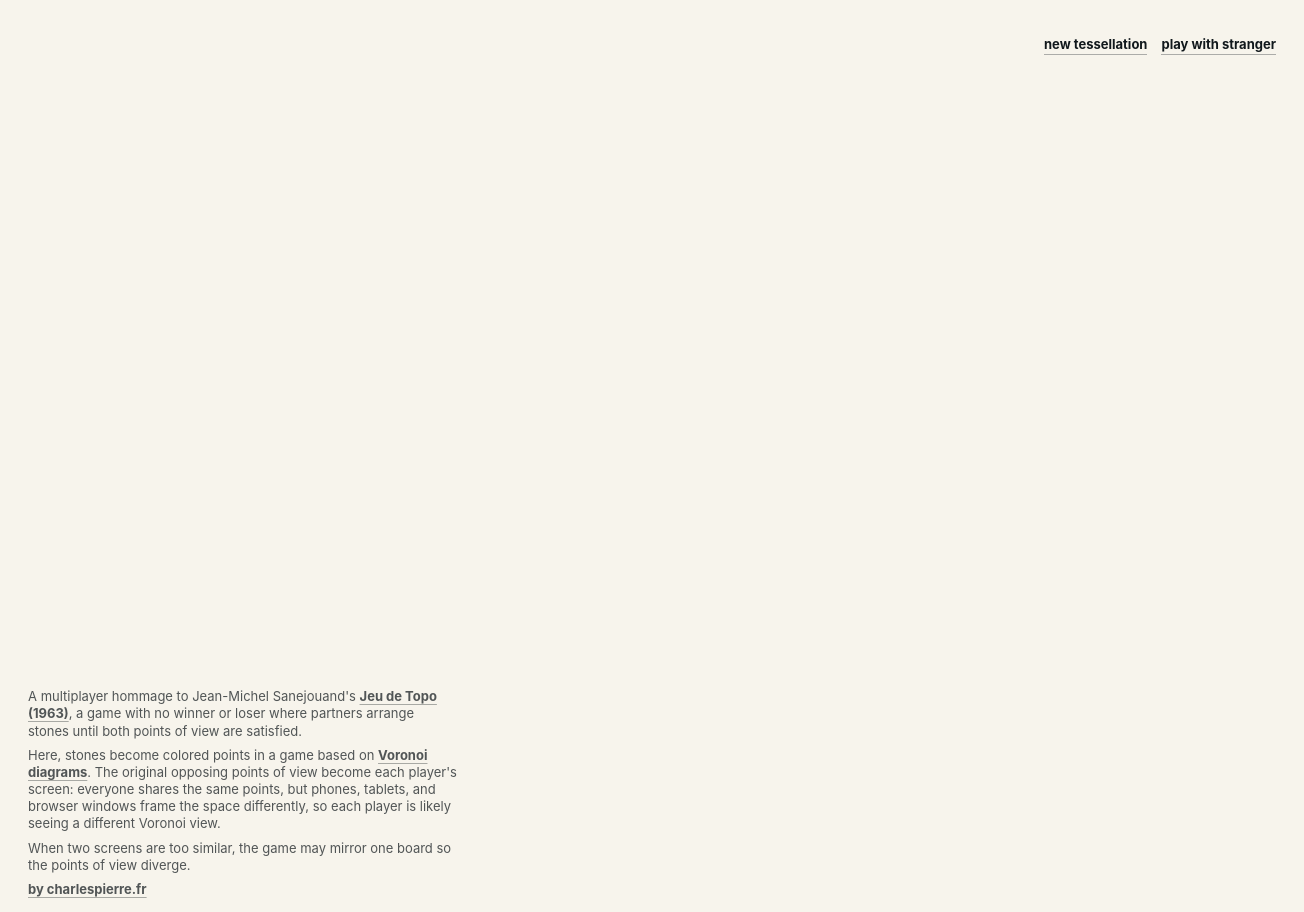
Test: App stranger matchmaking › cancels a waiting stranger match
Click the button "play with stranger" at (1219, 44), box [1162,34,1276,55]
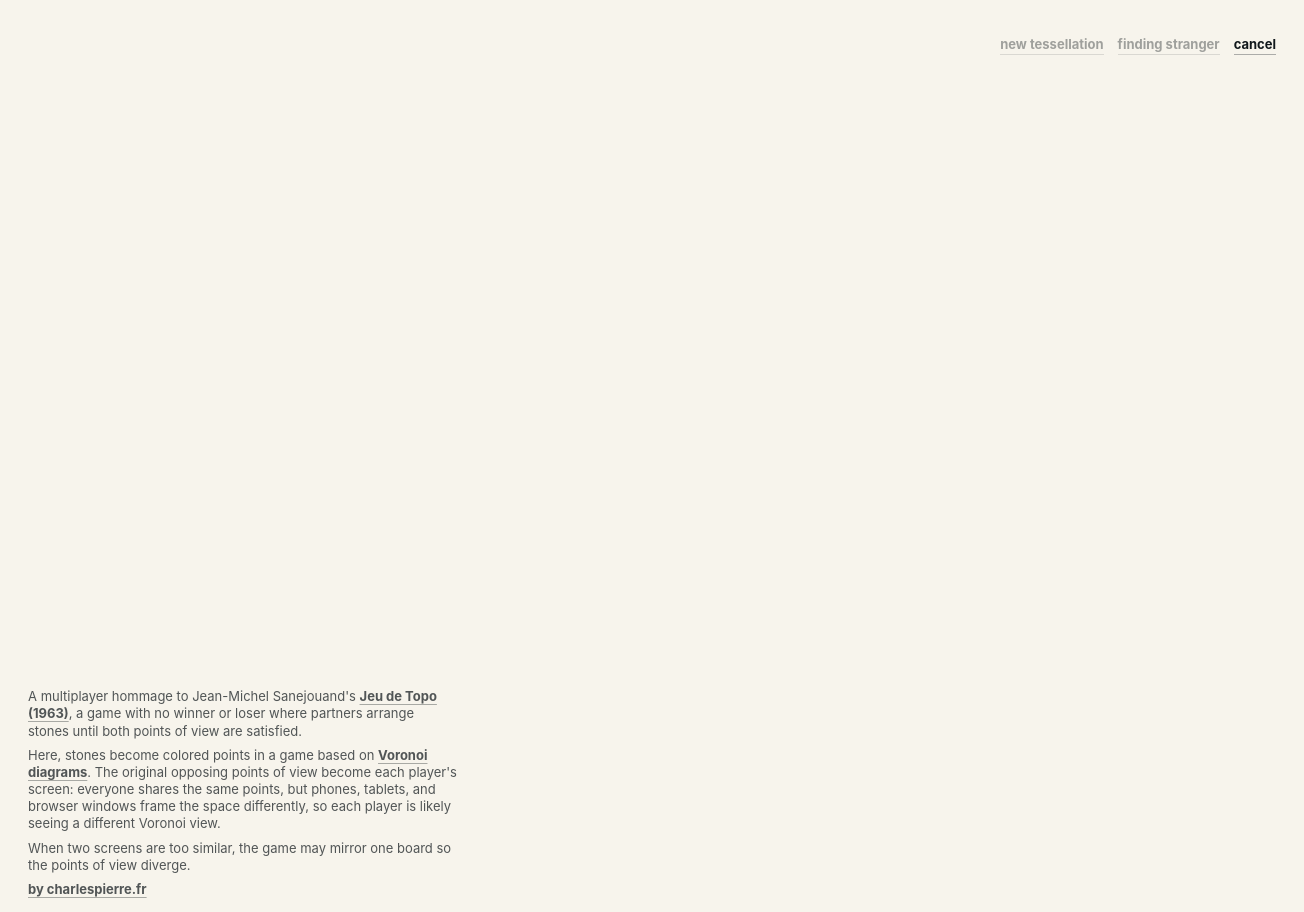
Click the button "cancel" at (1255, 44), box [1234,34,1276,55]
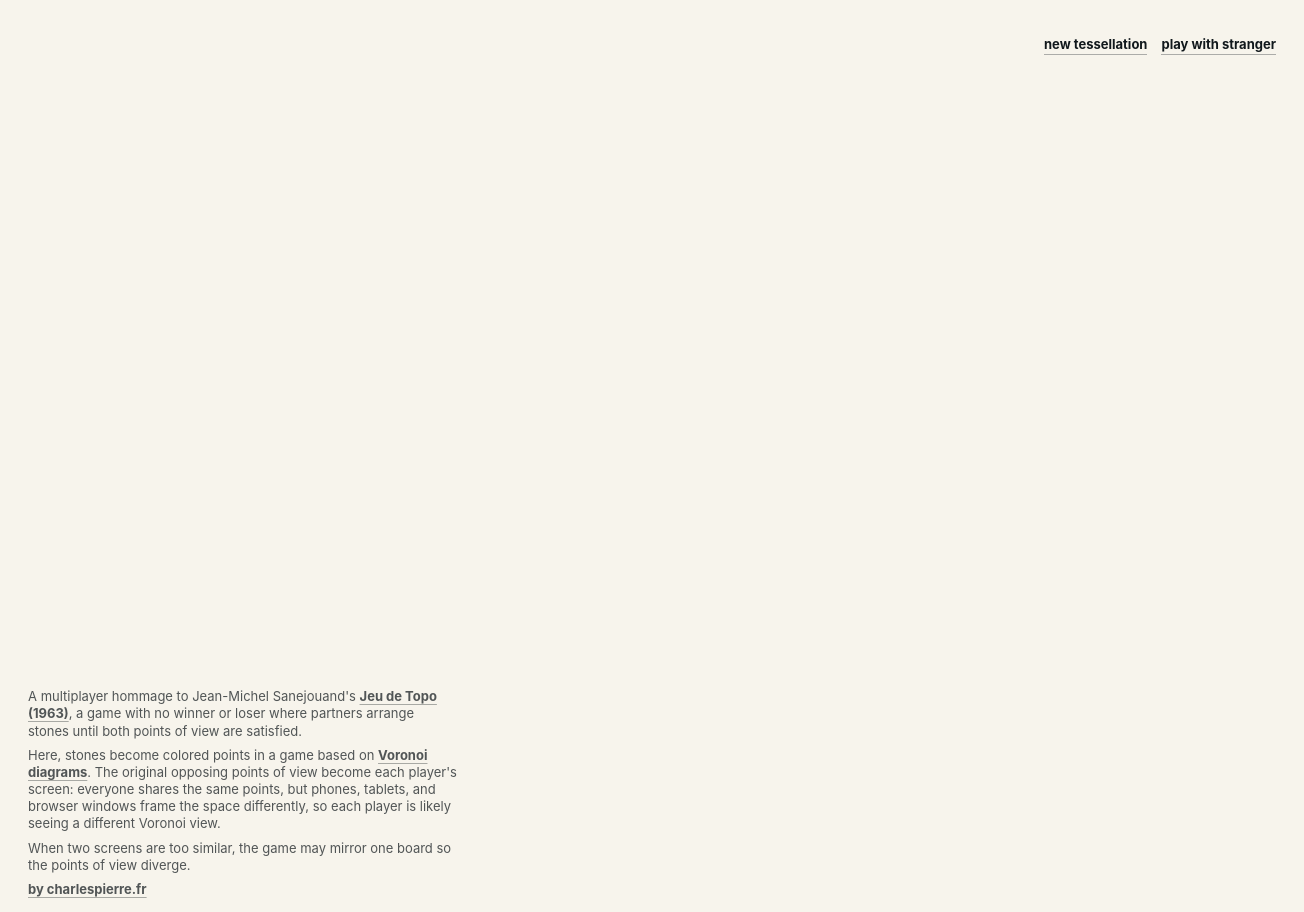
Now the button "play with stranger" is enabled, box [1162,34,1276,55]
